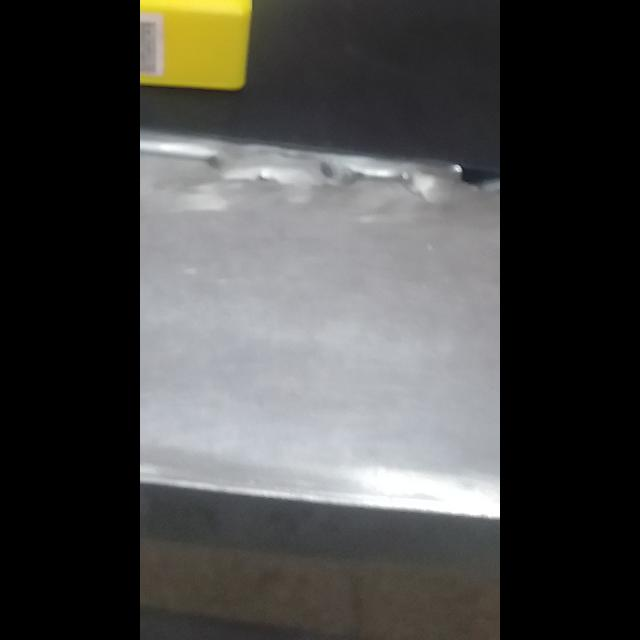yellowBox: (140, 0, 268, 104)
